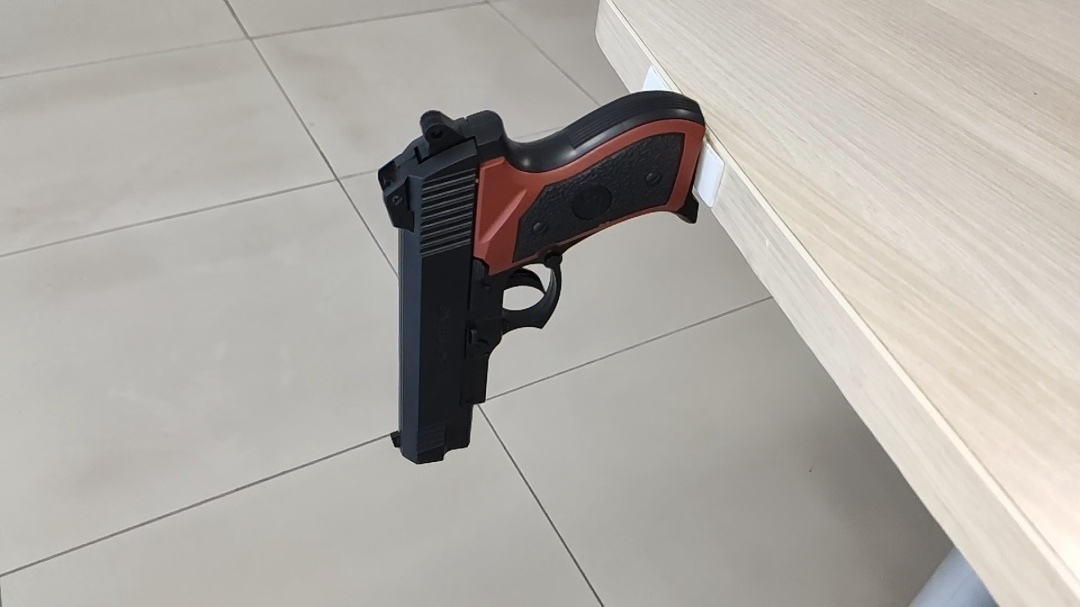gun: (376, 84, 715, 468)
